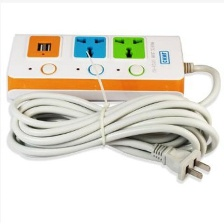three_eye_plug: (3, 30, 189, 106)
